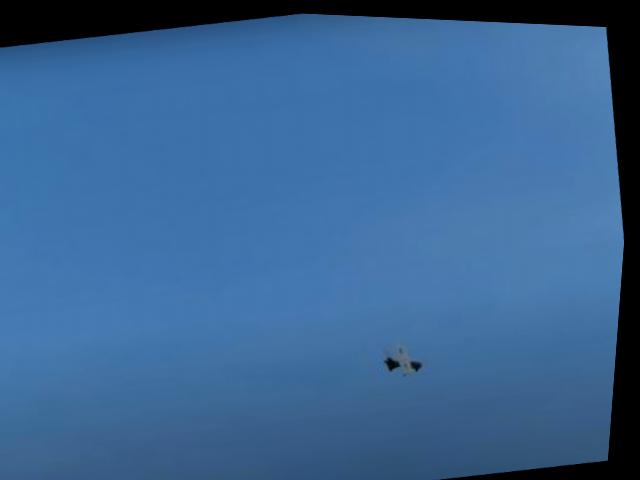uav: (386, 335, 431, 377)
